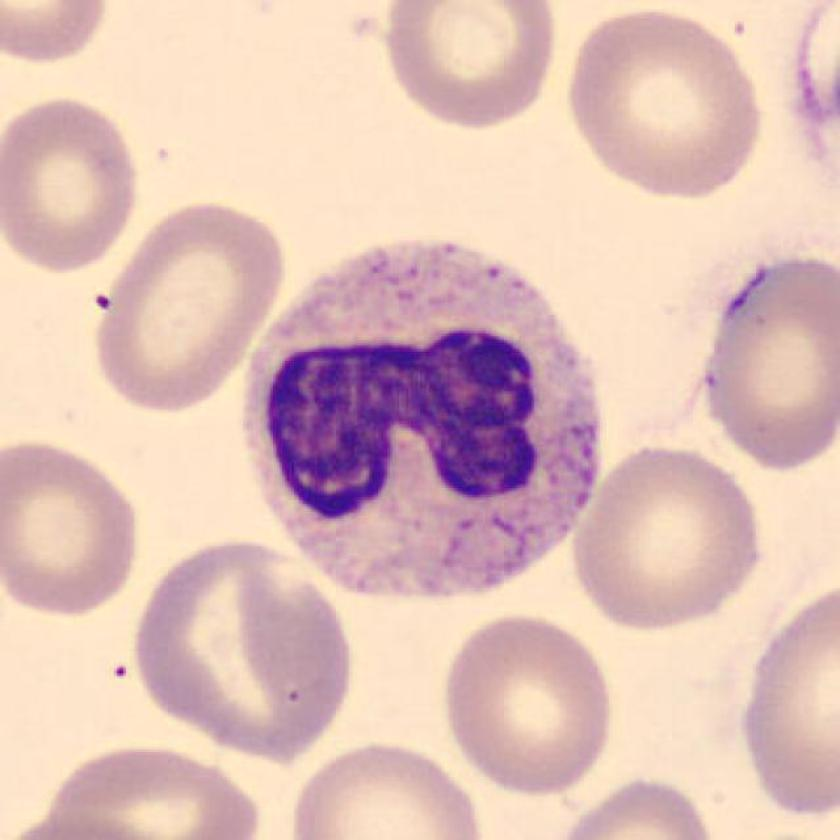neutrophil: (245, 242, 600, 597)
